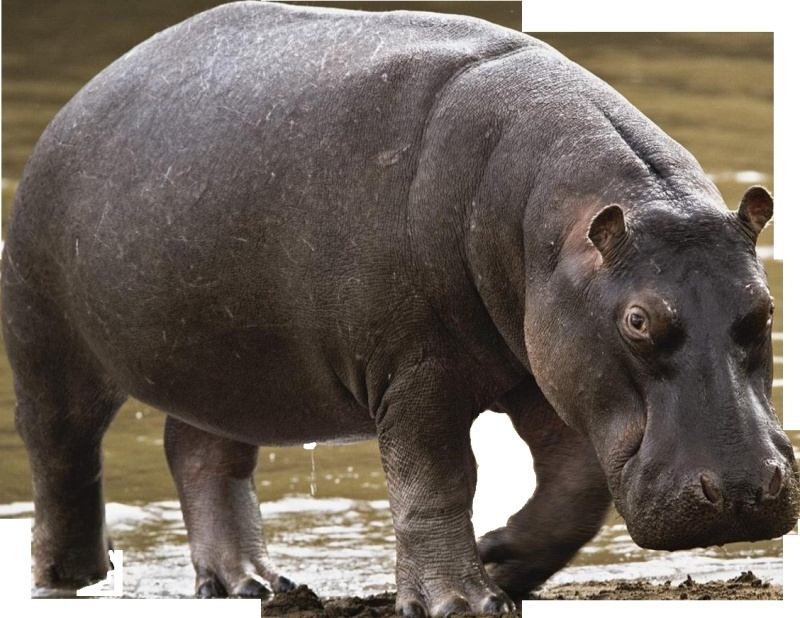hipopotamo: (1, 6, 787, 616)
